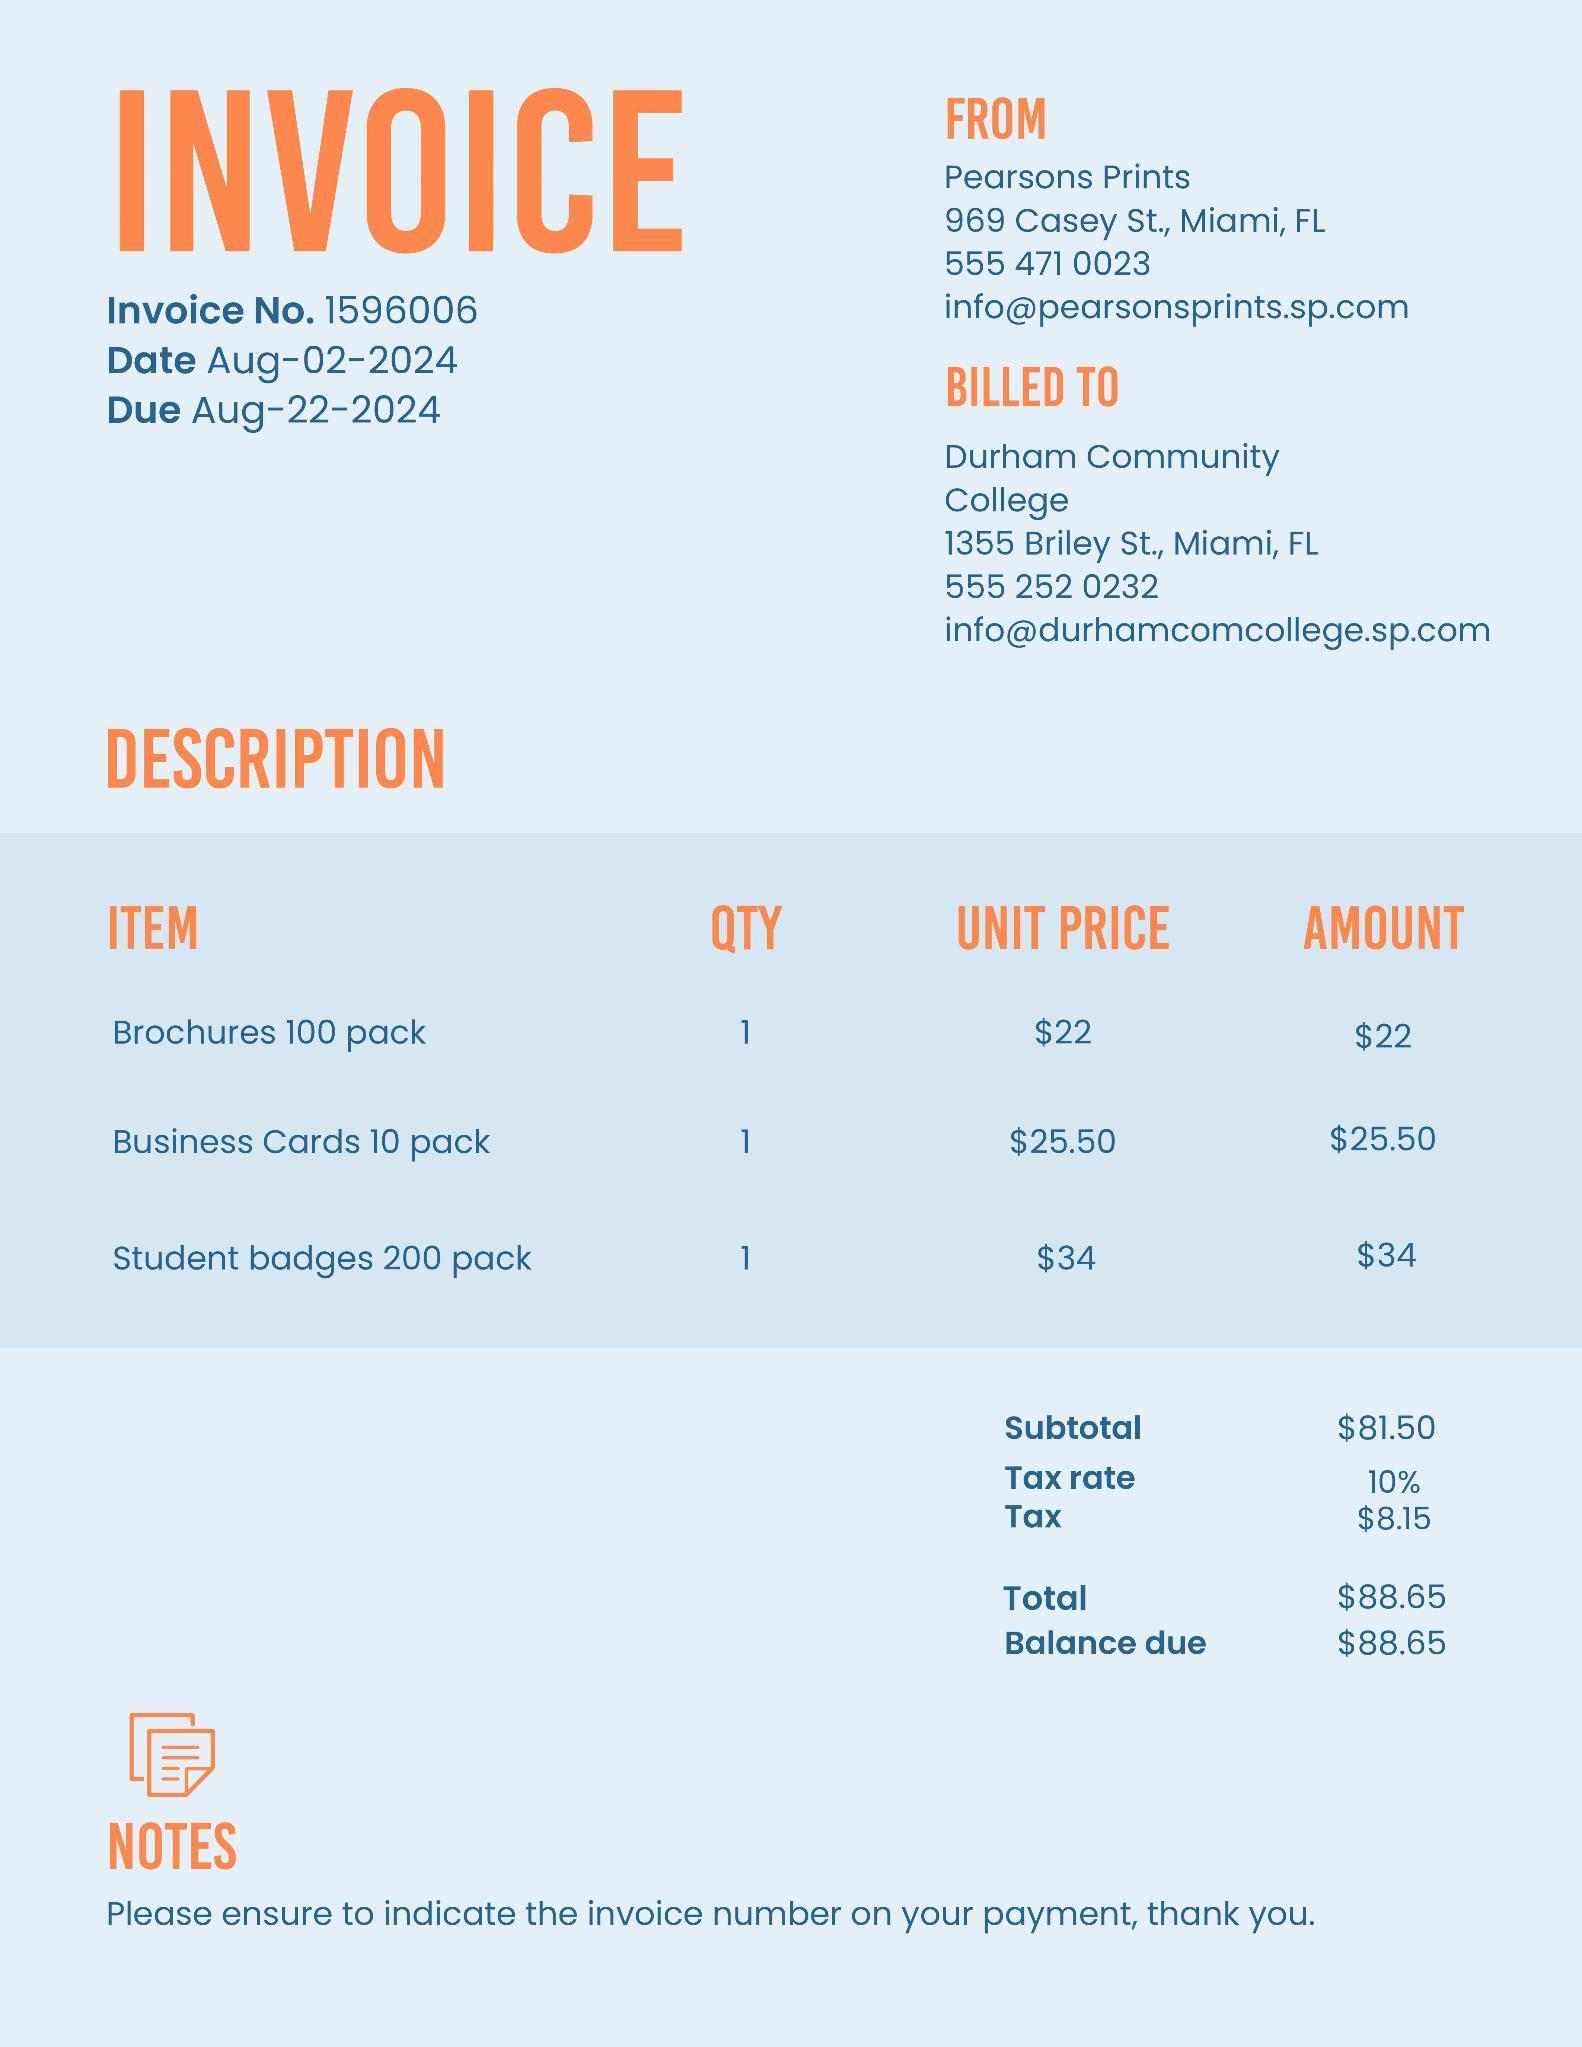ROI: (47, 698, 1544, 1351), (101, 1691, 1358, 1974), (899, 344, 1512, 665), (962, 1382, 1501, 1680), (899, 80, 1439, 336), (85, 52, 725, 266), (71, 292, 528, 445)
